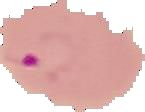parasitized: (18, 27, 82, 79)
